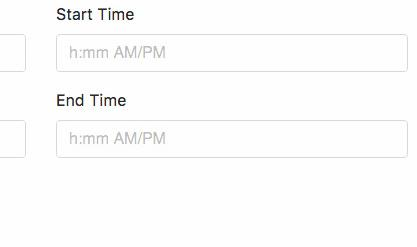field: (56, 118, 412, 161), (53, 32, 410, 73)
field_with_label: (54, 94, 414, 162), (51, 8, 412, 75)
